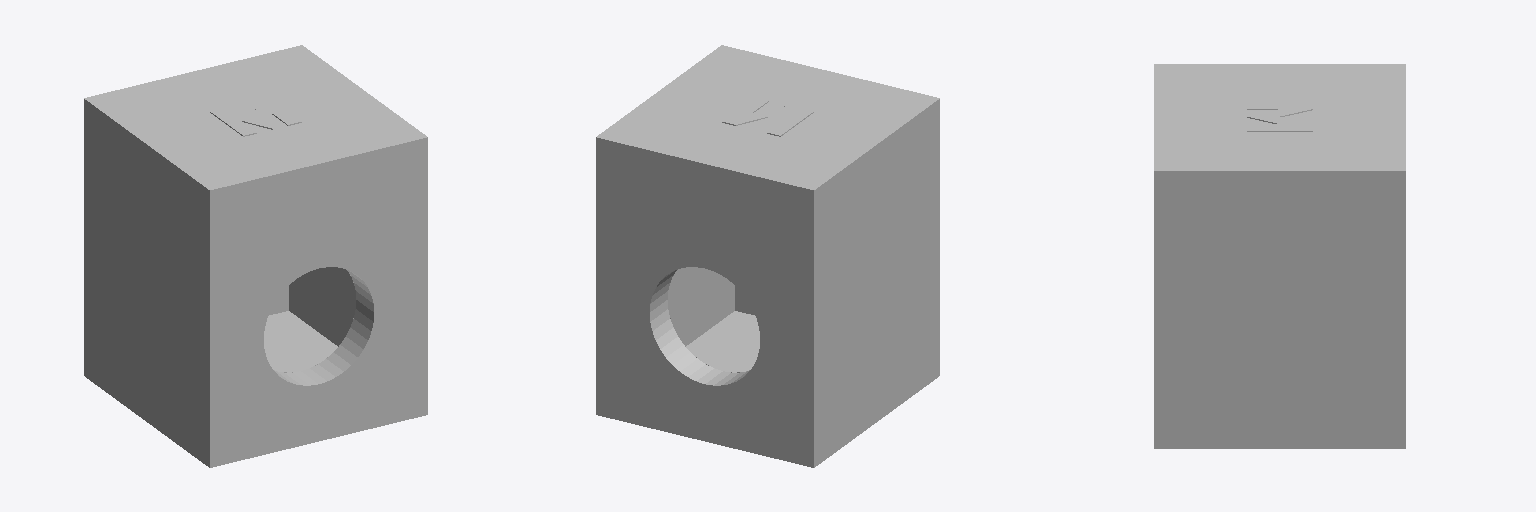
The model's file is DrainBox.obj.
3 renders of one model, left to right at view 1: azimuth 30°, elevation 25°; view 2: azimuth 150°, elevation 25°; view 3: azimuth 270°, elevation 25°, orthographic.
Visible parts, largest first — view 1: Mesh11 Component_11 Manhole1 Manhole_[number redacted]_dwg1 Model, Mesh10 Component_10 Manhole1 Manhole_[number redacted]_dwg1 Model, Mesh23 Component_23 Manhole1 Manhole_[number redacted]_dwg1 Model, Mesh19 Component_19 Manhole1 Manhole_[number redacted]_dwg1 Model, Mesh18 Component_18 Manhole1 Manhole_[number redacted]_dwg1 Model, Mesh5 Component_5 Manhole1 Manhole_[number redacted]_dwg1 Model, Mesh15 Component_15 Manhole1 Manhole_[number redacted]_dwg1 Model, Mesh7 Component_7 Manhole1 Manhole_[number redacted]_dwg1 Model, Mesh1 Component_1 Manhole1 Manhole_[number redacted]_dwg1 Model, Mesh37 Component_37 Manhole1 Manhole_[number redacted]_dwg1 Model; view 2: Mesh9 Component_9 Manhole1 Manhole_[number redacted]_dwg1 Model, Mesh10 Component_10 Manhole1 Manhole_[number redacted]_dwg1 Model, Mesh23 Component_23 Manhole1 Manhole_[number redacted]_dwg1 Model, Mesh21 Component_21 Manhole1 Manhole_[number redacted]_dwg1 Model, Mesh18 Component_18 Manhole1 Manhole_[number redacted]_dwg1 Model, Mesh5 Component_5 Manhole1 Manhole_[number redacted]_dwg1 Model, Mesh15 Component_15 Manhole1 Manhole_[number redacted]_dwg1 Model, Mesh7 Component_7 Manhole1 Manhole_[number redacted]_dwg1 Model, Mesh2 Component_2 Manhole1 Manhole_[number redacted]_dwg1 Model, Mesh37 Component_37 Manhole1 Manhole_[number redacted]_dwg1 Model; view 3: Mesh8 Component_8 Manhole1 Manhole_[number redacted]_dwg1 Model, Mesh23 Component_23 Manhole1 Manhole_[number redacted]_dwg1 Model, Mesh20 Component_20 Manhole1 Manhole_[number redacted]_dwg1 Model, Mesh15 Component_15 Manhole1 Manhole_[number redacted]_dwg1 Model, Mesh37 Component_37 Manhole1 Manhole_[number redacted]_dwg1 Model.
Part boxes in pixels (left/top/right/bottom): Mesh11 Component_11 Manhole1 Manhole_[number redacted]_dwg1 Model: left=210, top=170, right=427, bottom=467; Mesh10 Component_10 Manhole1 Manhole_[number redacted]_dwg1 Model: left=84, top=131, right=209, bottom=467; Mesh23 Component_23 Manhole1 Manhole_[number redacted]_dwg1 Model: left=84, top=45, right=426, bottom=189; Mesh19 Component_19 Manhole1 Manhole_[number redacted]_dwg1 Model: left=210, top=137, right=427, bottom=222; Mesh18 Component_18 Manhole1 Manhole_[number redacted]_dwg1 Model: left=84, top=99, right=209, bottom=222; Mesh5 Component_5 Manhole1 Manhole_[number redacted]_dwg1 Model: left=289, top=267, right=355, bottom=346; Mesh15 Component_15 Manhole1 Manhole_[number redacted]_dwg1 Model: left=193, top=91, right=318, bottom=143; Mesh7 Component_7 Manhole1 Manhole_[number redacted]_dwg1 Model: left=264, top=311, right=337, bottom=372; Mesh1 Component_1 Manhole1 Manhole_[number redacted]_dwg1 Model: left=274, top=270, right=373, bottom=385; Mesh37 Component_37 Manhole1 Manhole_[number redacted]_dwg1 Model: left=211, top=97, right=301, bottom=135; Mesh9 Component_9 Manhole1 Manhole_[number redacted]_dwg1 Model: left=596, top=170, right=813, bottom=467; Mesh10 Component_10 Manhole1 Manhole_[number redacted]_dwg1 Model: left=814, top=131, right=939, bottom=467; Mesh23 Component_23 Manhole1 Manhole_[number redacted]_dwg1 Model: left=597, top=45, right=939, bottom=189; Mesh21 Component_21 Manhole1 Manhole_[number redacted]_dwg1 Model: left=596, top=137, right=813, bottom=222; Mesh18 Component_18 Manhole1 Manhole_[number redacted]_dwg1 Model: left=814, top=99, right=939, bottom=222; Mesh5 Component_5 Manhole1 Manhole_[number redacted]_dwg1 Model: left=668, top=267, right=734, bottom=346; Mesh15 Component_15 Manhole1 Manhole_[number redacted]_dwg1 Model: left=705, top=91, right=830, bottom=143; Mesh7 Component_7 Manhole1 Manhole_[number redacted]_dwg1 Model: left=686, top=311, right=759, bottom=372; Mesh2 Component_2 Manhole1 Manhole_[number redacted]_dwg1 Model: left=650, top=270, right=749, bottom=385; Mesh37 Component_37 Manhole1 Manhole_[number redacted]_dwg1 Model: left=722, top=97, right=812, bottom=135; Mesh8 Component_8 Manhole1 Manhole_[number redacted]_dwg1 Model: left=1154, top=204, right=1405, bottom=448; Mesh23 Component_23 Manhole1 Manhole_[number redacted]_dwg1 Model: left=1154, top=64, right=1405, bottom=170; Mesh20 Component_20 Manhole1 Manhole_[number redacted]_dwg1 Model: left=1154, top=171, right=1405, bottom=203; Mesh15 Component_15 Manhole1 Manhole_[number redacted]_dwg1 Model: left=1217, top=91, right=1342, bottom=143; Mesh37 Component_37 Manhole1 Manhole_[number redacted]_dwg1 Model: left=1247, top=102, right=1312, bottom=130.
Size of the model in its own units: 1.4 by 1.71 by 1.4.